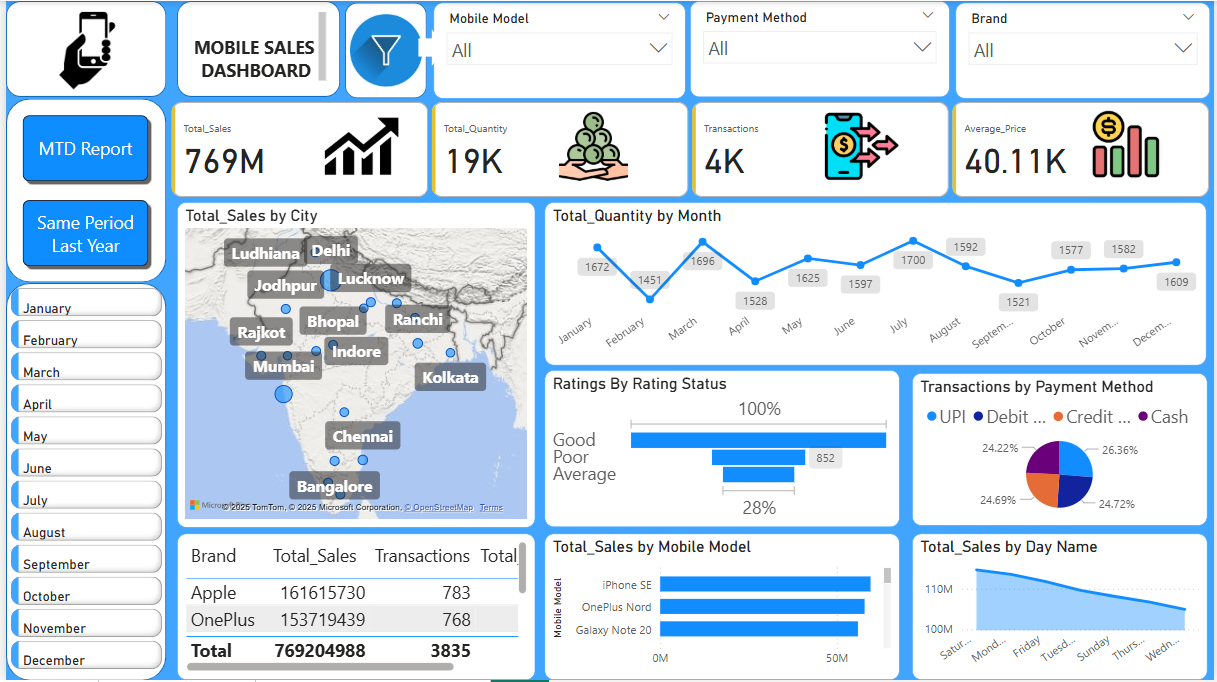

This screenshot's page, from the dashboard's own definition file:
{"tool":"powerbi","page":{"name":"Dashboard","canvas":[1280,720],"ordinal":0},"visuals":[{"type":"shape","box":[0,0,170,101.7],"z":0},{"type":"image","box":[26.7,1.7,118.3,101.7],"z":1000},{"type":"shape","box":[0,103.3,170,195],"z":2000},{"type":"shape","box":[0,298.3,170,421.7],"z":3000},{"type":"advancedSlicerVisual","fields":{"Values":["Custom_calender.Date.Variation.Date Hierarchy.Month"]},"box":[0,298.3,170,421.7],"z":4000},{"type":"cardVisual","fields":{"Data":["Mobile_Sales_Data.Total_Sales","Mobile_Sales_Data.Total_Quantity","Mobile_Sales_Data.Transactions","Mobile_Sales_Data.Average_Price"]},"box":[170,101.7,1110,111.7],"z":5000},{"type":"image","box":[318.3,110,118.3,88.3],"z":6000},{"type":"image","box":[536.7,110,173.3,88.3],"z":7000},{"type":"image","box":[821.7,110,170,88.3],"z":8000},{"type":"image","box":[1110,110,155,83.3],"z":9000},{"type":"slicer","fields":{"Values":["Mobile_Sales_Data.Mobile Model"]},"box":[453.3,1.7,267,101.7],"z":10000},{"type":"slicer","fields":{"Values":["Mobile_Sales_Data.Payment Method"]},"box":[725,0,275,101.7],"z":11000},{"type":"slicer","fields":{"Values":["Mobile_Sales_Data.Brand"]},"box":[1006.7,1.7,270,101.7],"z":12000},{"type":"shape","box":[360,1.7,86.7,101.7],"z":13000},{"type":"image","box":[360,0,86.7,105],"z":14000},{"type":"shape","box":[436.7,30,28.3,38.3],"z":15000},{"type":"shape","box":[181.7,0,173,101.7],"z":16000},{"type":"textbox","box":[193.3,6.7,150,83.3],"z":17000},{"type":"map","fields":{"Category":["Mobile_Sales_Data.City"],"Size":["Mobile_Sales_Data.Total_Sales"]},"box":[181.7,213.3,380,345],"z":18000},{"type":"lineChart","fields":{"Category":["Custom_calender.Date.Variation.Date Hierarchy.Month"],"Y":["Mobile_Sales_Data.Total_Quantity"]},"box":[571.7,213.3,701.7,173.3],"z":19000},{"type":"funnel","title":"Ratings By Rating Status","fields":{"Y":["CountNonNull(Mobile_Sales_Data.Customer Age)"],"Category":["Mobile_Sales_Data.Rating Status"]},"box":[571.7,391.7,376.7,166.7],"z":20000},{"type":"pieChart","fields":{"Y":["Mobile_Sales_Data.Transactions"],"Category":["Mobile_Sales_Data.Payment Method"]},"box":[960,395,313.3,161.7],"z":21000},{"type":"clusteredBarChart","fields":{"Y":["Mobile_Sales_Data.Total_Sales"],"Category":["Mobile_Sales_Data.Mobile Model"]},"box":[571.7,565,376.7,155],"z":22000},{"type":"areaChart","fields":{"Category":["Custom_calender.Day Name"],"Y":["Mobile_Sales_Data.Total_Sales"]},"box":[960,565,313.3,155],"z":23000},{"type":"tableEx","fields":{"Values":["Mobile_Sales_Data.Brand","Mobile_Sales_Data.Total_Sales","Mobile_Sales_Data.Transactions","Mobile_Sales_Data.Total_Quantity"]},"box":[181.7,565,380,155],"z":24000},{"type":"pageNavigator","box":[13.3,116.7,143.3,170],"z":25000}]}

Visuals, with their boxes in screenshot pixels (x1, y1, x2, y2), scaled from the page's 1280x720 canvas onto the 1217x682 screenshot:
shape: box(0, 0, 162, 96)
image: box(25, 2, 138, 98)
shape: box(0, 98, 162, 283)
shape: box(0, 283, 162, 681)
advancedSlicerVisual - Custom_calender.Date.Variation.Date Hierarchy.Month: box(0, 283, 162, 681)
cardVisual - Mobile_Sales_Data.Total_Sales x Mobile_Sales_Data.Total_Quantity: box(162, 96, 1216, 202)
image: box(303, 104, 415, 188)
image: box(510, 104, 675, 188)
image: box(781, 104, 943, 188)
image: box(1055, 104, 1203, 183)
slicer - Mobile_Sales_Data.Mobile Model: box(431, 2, 685, 98)
slicer - Mobile_Sales_Data.Payment Method: box(689, 0, 951, 96)
slicer - Mobile_Sales_Data.Brand: box(957, 2, 1214, 98)
shape: box(342, 2, 425, 98)
image: box(342, 0, 425, 99)
shape: box(415, 28, 442, 65)
shape: box(173, 0, 337, 96)
textbox: box(184, 6, 326, 85)
map - Mobile_Sales_Data.City x Mobile_Sales_Data.Total_Sales: box(173, 202, 534, 529)
lineChart - Custom_calender.Date.Variation.Date Hierarchy.Month x Mobile_Sales_Data.Total_Quantity: box(544, 202, 1211, 366)
"Ratings By Rating Status" funnel: box(544, 371, 902, 529)
pieChart - Mobile_Sales_Data.Transactions x Mobile_Sales_Data.Payment Method: box(913, 374, 1211, 527)
clusteredBarChart - Mobile_Sales_Data.Total_Sales x Mobile_Sales_Data.Mobile Model: box(544, 535, 902, 681)
areaChart - Custom_calender.Day Name x Mobile_Sales_Data.Total_Sales: box(913, 535, 1211, 681)
tableEx - Mobile_Sales_Data.Brand x Mobile_Sales_Data.Total_Sales: box(173, 535, 534, 681)
pageNavigator: box(13, 111, 149, 272)
